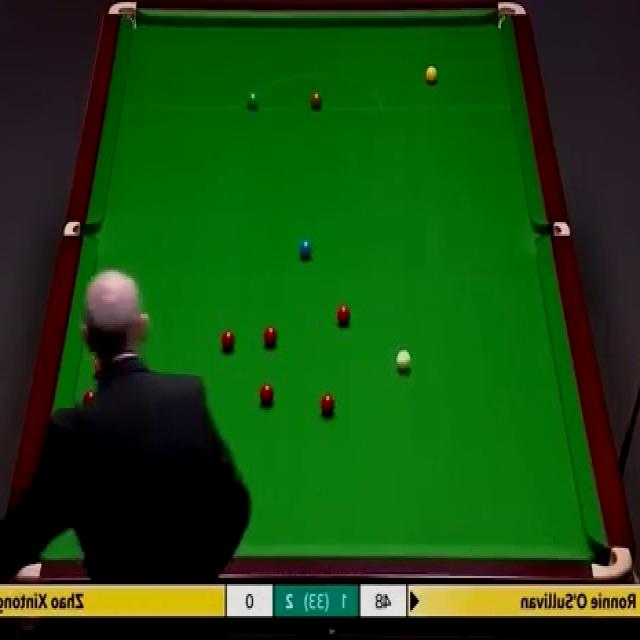blue-ball: (299, 236, 312, 262)
brown-ball: (309, 91, 323, 109)
green-ball: (245, 88, 260, 110)
red-ball: (318, 392, 336, 418), (262, 325, 280, 348), (260, 382, 275, 406), (220, 328, 234, 352), (337, 303, 351, 324)
white-ball: (395, 348, 412, 374)
yellow-ball: (425, 66, 437, 85)
